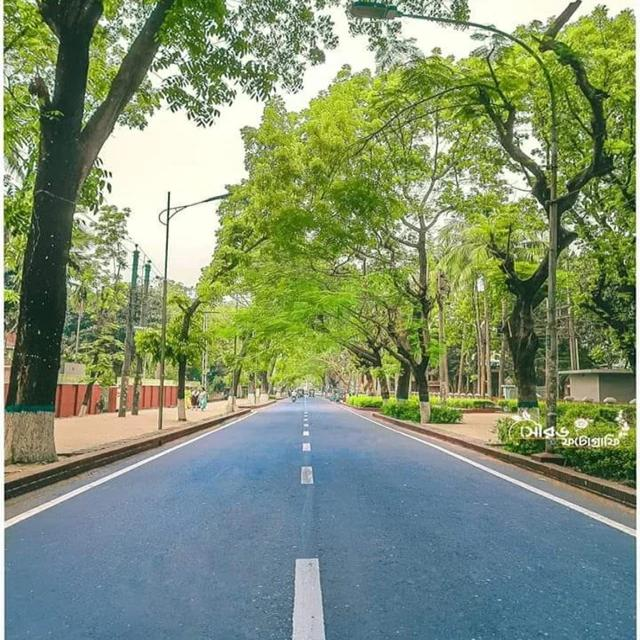Road-divider: (290, 400, 327, 640)
